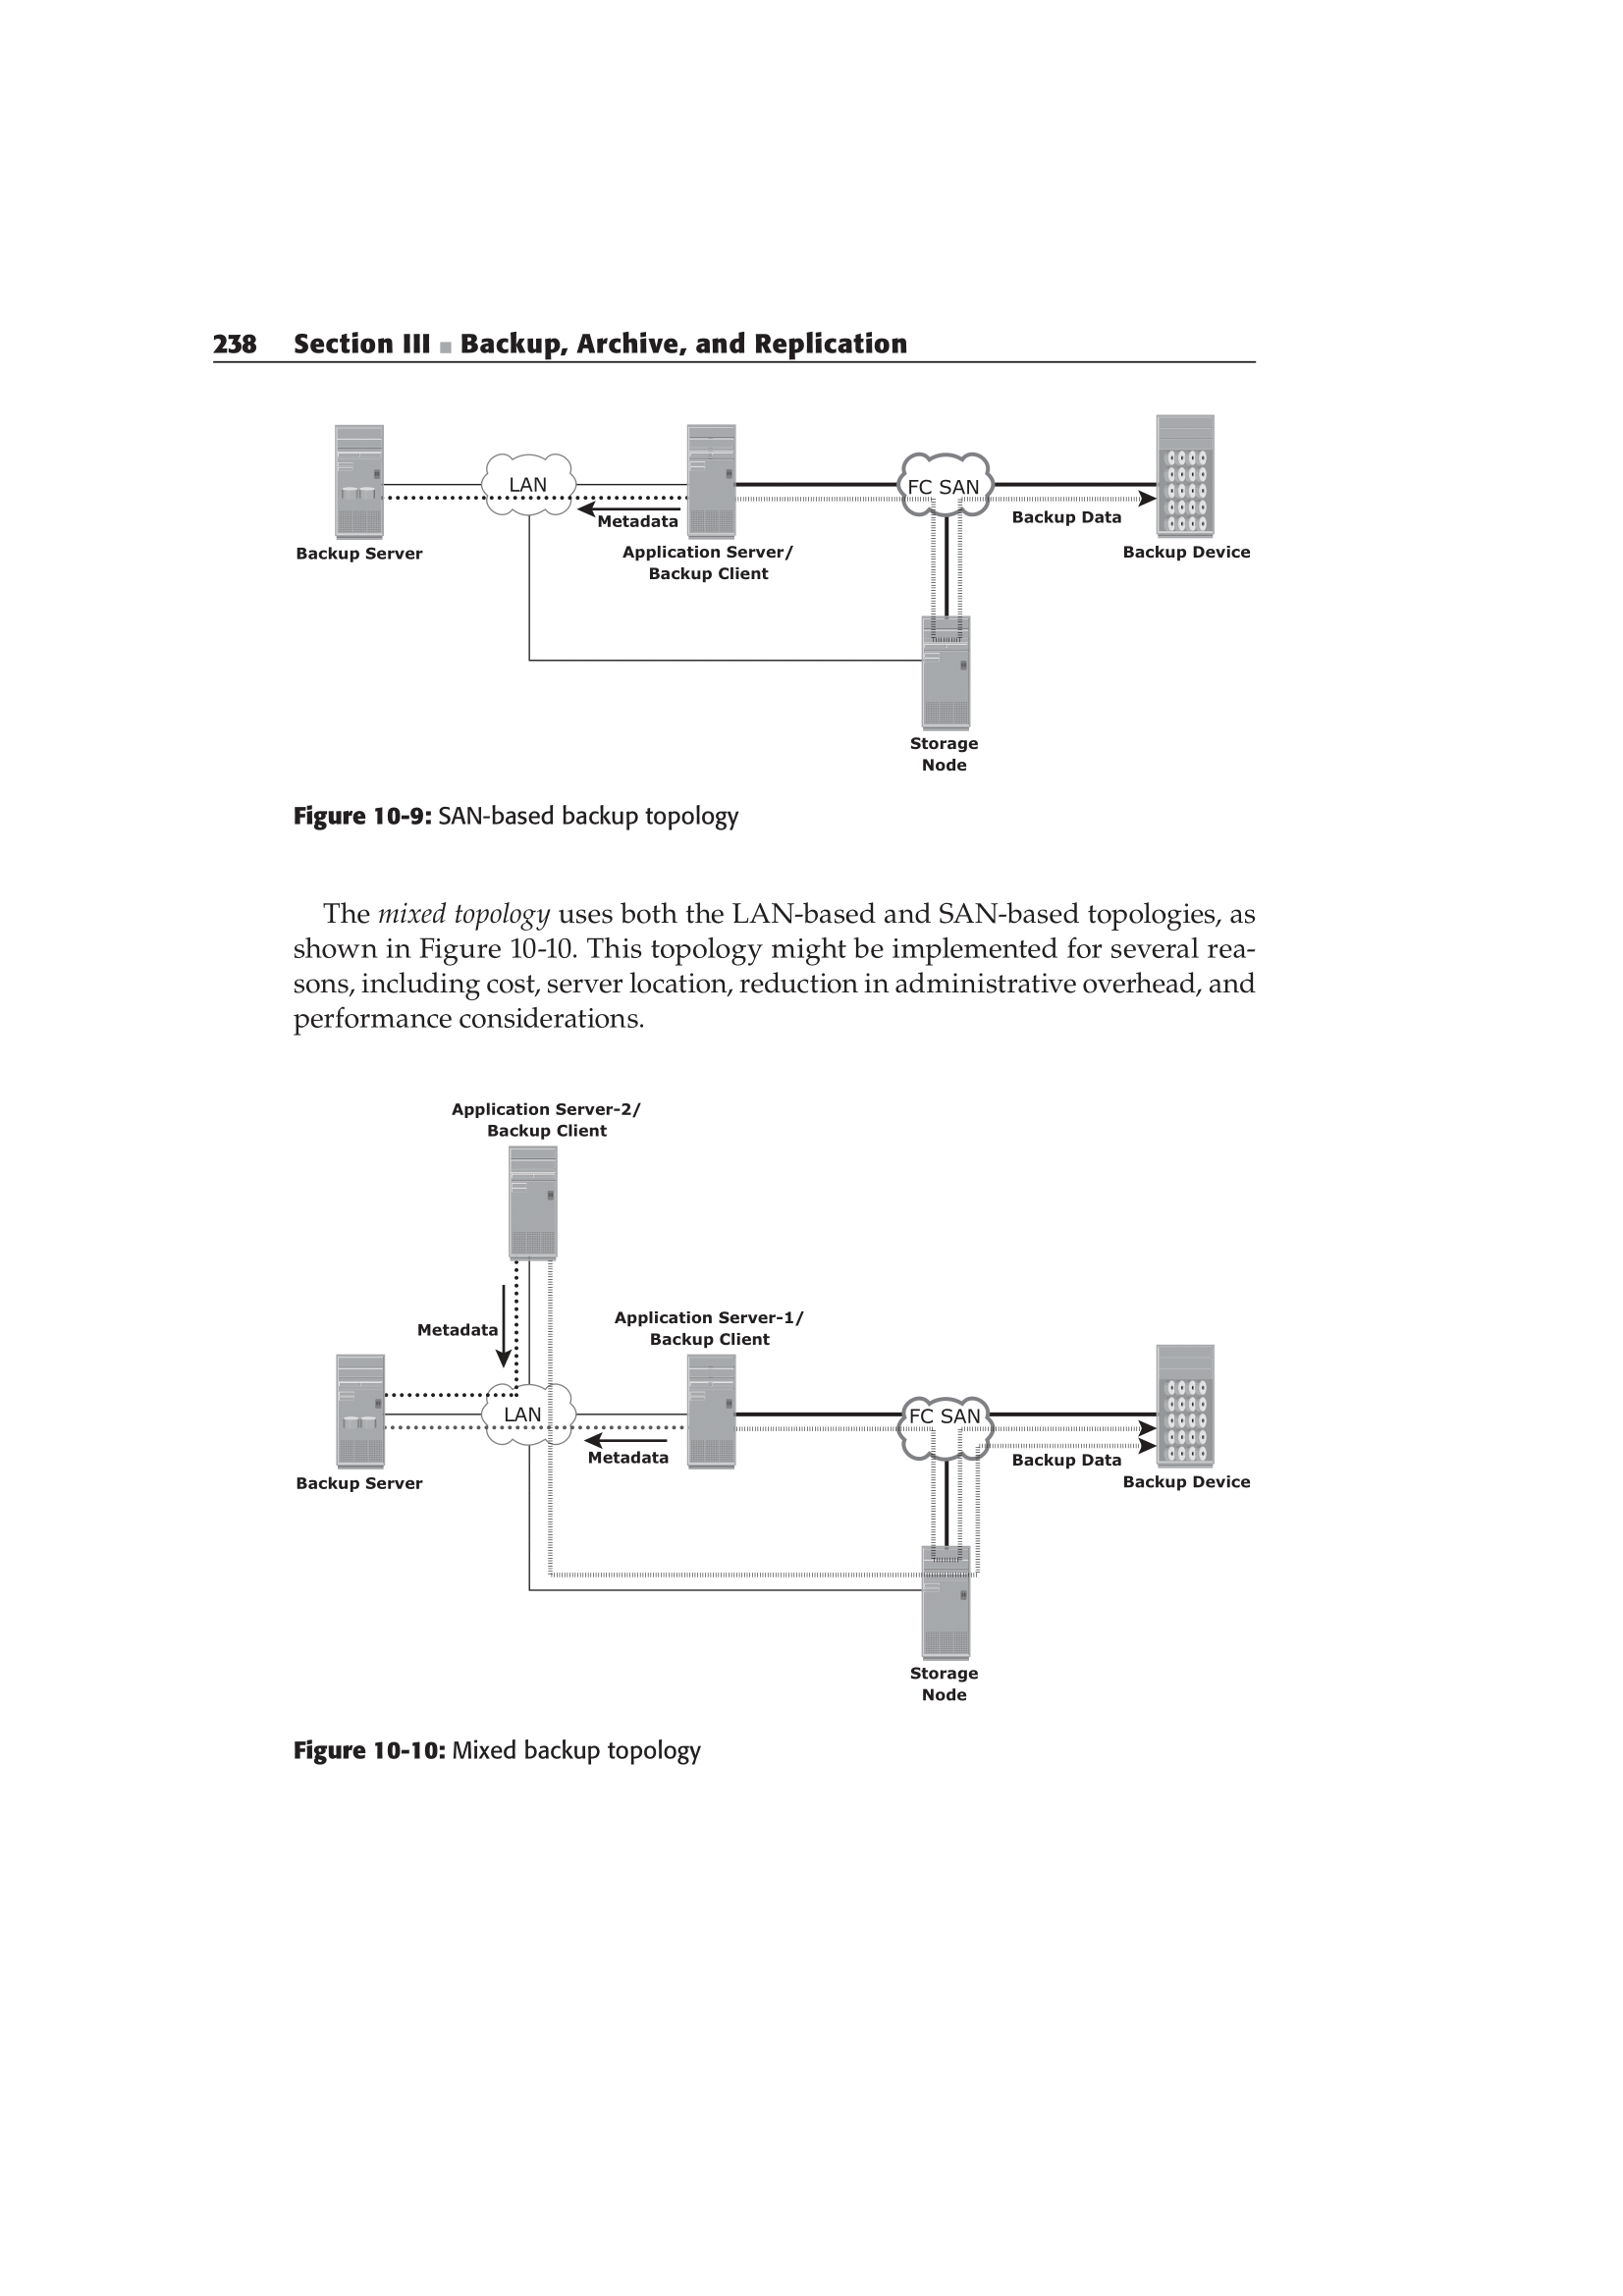Image: (292, 1078, 1288, 1717), (283, 405, 1282, 785)
Paragraph: (251, 890, 1293, 1041), (197, 314, 922, 370), (274, 1731, 734, 1794), (274, 793, 776, 836)
